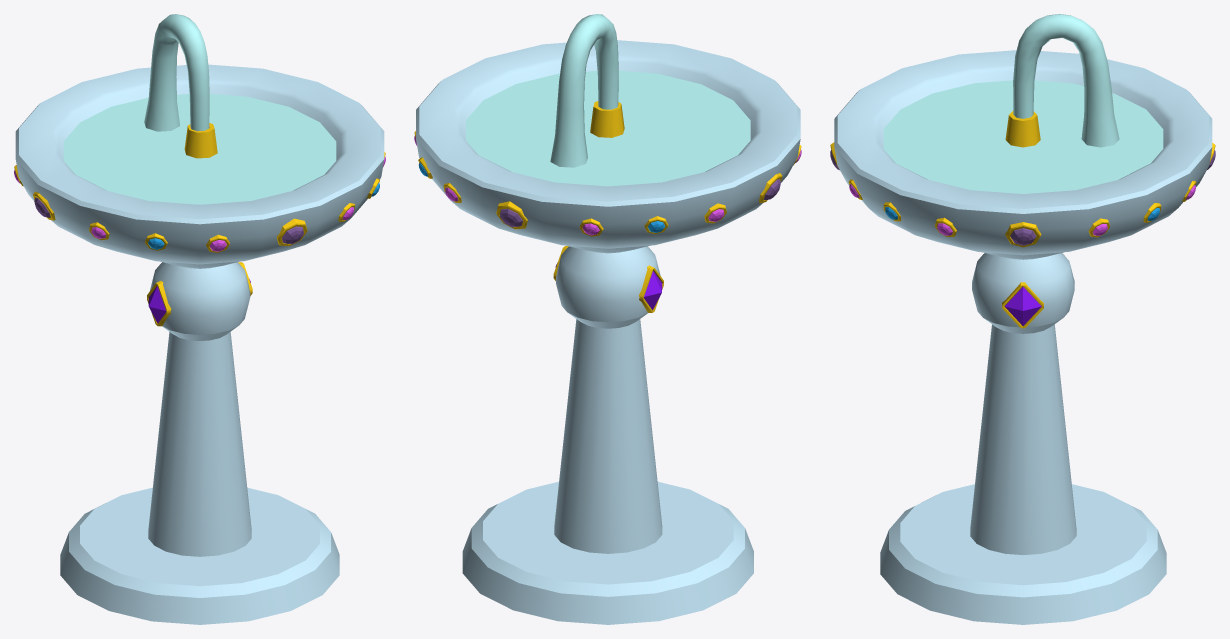
File: ButterflyFountain.fbx
The picture shows the model from 3 angles, left to right: view 1: azimuth 30°, elevation 25°; view 2: azimuth 150°, elevation 25°; view 3: azimuth 270°, elevation 25°; orthographic projection. The views are drawn at different scales.
Visible parts, largest first — view 1: ButterflyFountains_LOD0; view 2: ButterflyFountains_LOD0; view 3: ButterflyFountains_LOD0.
Part boxes in pixels (x1=…): ButterflyFountains_LOD0: x1=14, y1=14, x2=385, y2=624; ButterflyFountains_LOD0: x1=414, y1=14, x2=801, y2=624; ButterflyFountains_LOD0: x1=830, y1=14, x2=1215, y2=624.
Size of what is drawn, in the model's own units: 681 by 1066 by 679.
